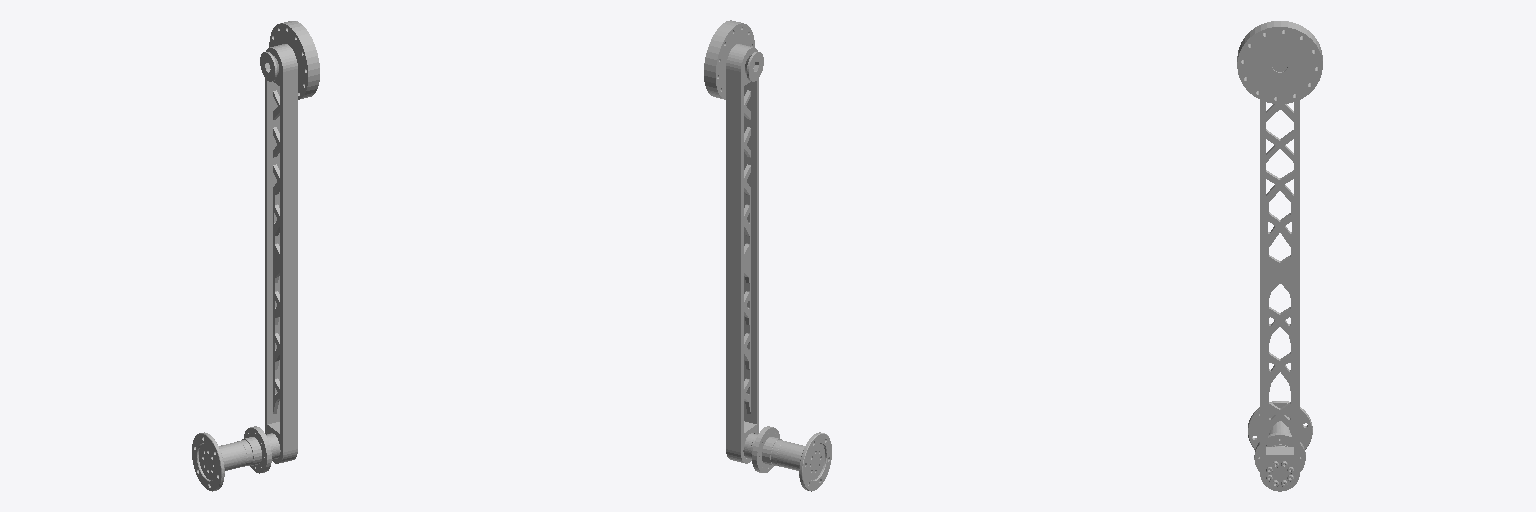
The robot description file, URDF, robot "innfos_joint":
<?xml version="1.0" encoding="utf-8"?>
<!-- This URDF was automatically created by SolidWorks to URDF Exporter! Originally created by [author] ([email redacted]) 
     Commit Version: 1.5.1-0-g916b5db  Build Version: 1.5.7152.31018
     For more information, please see http://wiki.ros.org/sw_urdf_exporter -->
     
<robot
  name="innfos_joint">
  <gazebo>
    <plugin name="gazebo_ros_control"
            filename="libgazebo_ros_control.so">
      <robotNamespace>/innfos</robotNamespace>
    </plugin>
  </gazebo>
  <link 
    name="dummy">
  </link>
  <link
    name="base_link">
    <inertial>
      <origin
        xyz="0.0024174 1.0534E-05 0.3362"
        rpy="0 0 0" />
      <mass
        value="9.658" />
      <inertia
        ixx="0.27142"
        ixy="5.7115E-12"
        ixz="-4.0203E-05"
        iyy="0.27157"
        iyz="-1.3648E-08"
        izz="0.023627" />
    </inertial>
    <visual>
      <origin
        xyz="0 0 0"
        rpy="0 0 0" />
      <geometry>
        <mesh
          filename="package://innfos_joint_description/meshes/base_link.STL" />
      </geometry>
      <material
        name="">
        <color
          rgba="0.75294 0.75294 0.75294 1" />
      </material>
    </visual>
    <collision>
      <origin
        xyz="0 0 0"
        rpy="0 0 0" />
      <geometry>
        <mesh
          filename="package://innfos_joint_description/meshes/base_link.STL" />
      </geometry>
    </collision>
  </link>
  <joint
    name="dummy_joint"
    type="fixed">
    <parent
      link="dummy"/>
    <child
      link="base_link"/>
  </joint>
  <link
    name="joint1_Link">
    <inertial>
      <origin
        xyz="0.2577 0 0"
        rpy="0 0 0" />
      <mass
        value="0.56829" />
      <inertia
        ixx="0.00010522"
        ixy="0"
        ixz="0"
        iyy="0.0021691"
        iyz="0"
        izz="0.0022076" />
    </inertial>
    <visual>
      <origin
        xyz="0 0 0"
        rpy="0 -1.57 0" />
      <geometry>
        <mesh
          filename="package://innfos_joint_description/meshes/joint1_Link.STL" />
      </geometry>
      <material
        name="">
        <color
          rgba="0.75294 0.75294 0.75294 1" />
      </material>
    </visual>
    <collision>
      <origin
        xyz="0 0 0"
        rpy="0 0 0" />
      <geometry>
        <mesh
          filename="package://innfos_joint_description/meshes/joint1_Link.STL" />
      </geometry>
    </collision>
  </link>
  <joint
    name="innfos_joint"
    type="revolute">
    <origin
      xyz="0.1205 0 0.6835"
      rpy="3.14 -1.57 0" />
    <parent
      link="base_link" />
    <child
      link="joint1_Link" />
    <axis
      xyz="0 0 1" />
    <limit
      lower="-10"
      upper="10"
      effort="5"
      velocity="1.2" />
  </joint>
  <transmission name="innfos_joint_trans">
    <type>transmission_interface/SimpleTransmission</type>
    <joint name="innfos_joint">
      <hardwareInterface>hardware_interface/EffortJointInterface</hardwareInterface>
    </joint>
    <actuator name="innfos_motor">
      <hardwareInterface>hardware_interface/EffortJointInterface</hardwareInterface>
      <mechanicalReduction>1</mechanicalReduction>
    </actuator>
  </transmission>
</robot>

--- What the picture shows (computed from the rendered views, not written in the file) ---
Views: 3 orthographic renders of the robot side by side, from view 1: azimuth 30°, elevation 25°; view 2: azimuth 150°, elevation 25°; view 3: azimuth 270°, elevation 25°.
Model innfos_joint with 3 links and 2 joints (1 revolute, 1 fixed), rooted at dummy, posed all joints at 0.
Visible links, largest first — view 1: joint1_Link; view 2: joint1_Link; view 3: joint1_Link.
Link boxes in pixels (box(x1,y1,x2,y2)): joint1_Link: box(192, 21, 319, 491); joint1_Link: box(704, 20, 831, 491); joint1_Link: box(1237, 21, 1322, 491).
Bounding box of the posed robot: 0.1036 × 0.0749 × 0.466 m (x, y, z).
1 mesh visuals loaded from 2 distinct referenced files (1 binary STL); not drawn: 1 (reference not matched to a file when rendering).